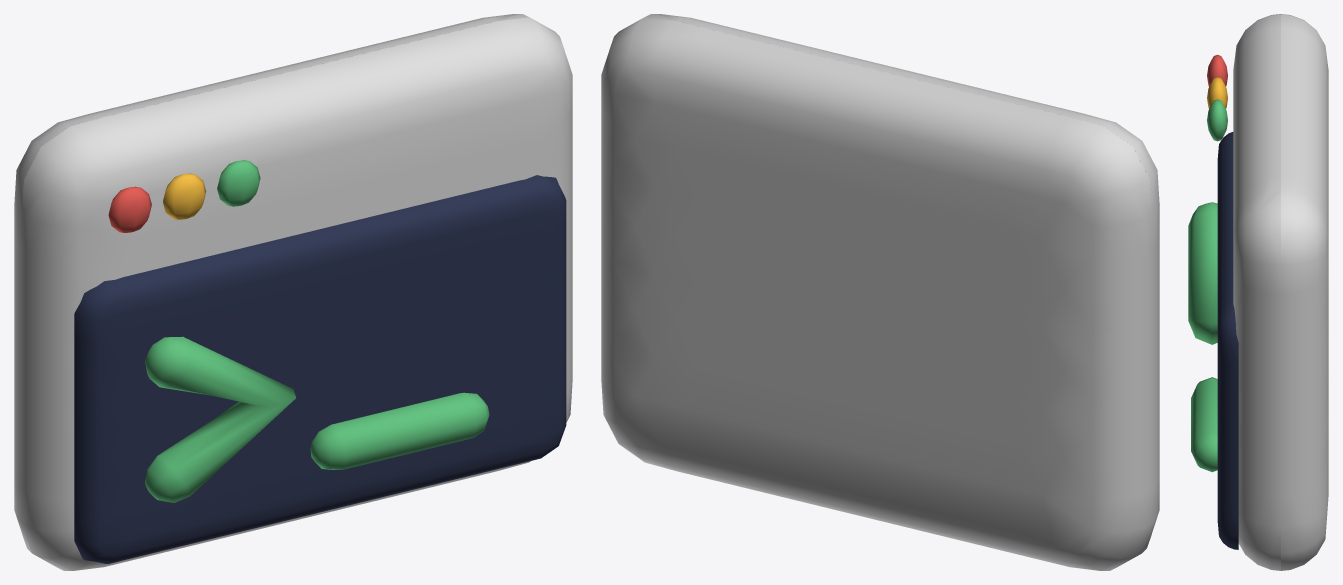
The model's file is terminal_window.glb.
3 views of the same model, side by side, from view 1: azimuth 30°, elevation 25°; view 2: azimuth 150°, elevation 25°; view 3: azimuth 270°, elevation 25° (orthographic). The views are drawn at different scales.
Parts seen in each view (by area): view 1: terminal_window; view 2: terminal_window; view 3: terminal_window.
Boxes of the visible parts, x1,y1,x2,y2 form: terminal_window: (14, 14, 572, 570); terminal_window: (601, 14, 1159, 570); terminal_window: (1188, 14, 1328, 570).
Bounding box in the file's own units: 1 × 0.78 × 0.265.
